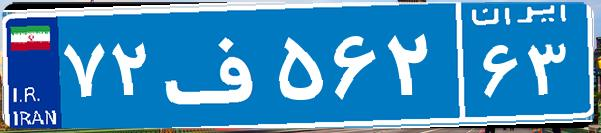2: (385, 28, 445, 110), (110, 28, 158, 105)
3: (525, 38, 570, 115)
5: (273, 28, 330, 110)
6: (330, 28, 385, 110), (475, 38, 525, 113)
7: (57, 26, 110, 107)
ف: (158, 15, 273, 115)
